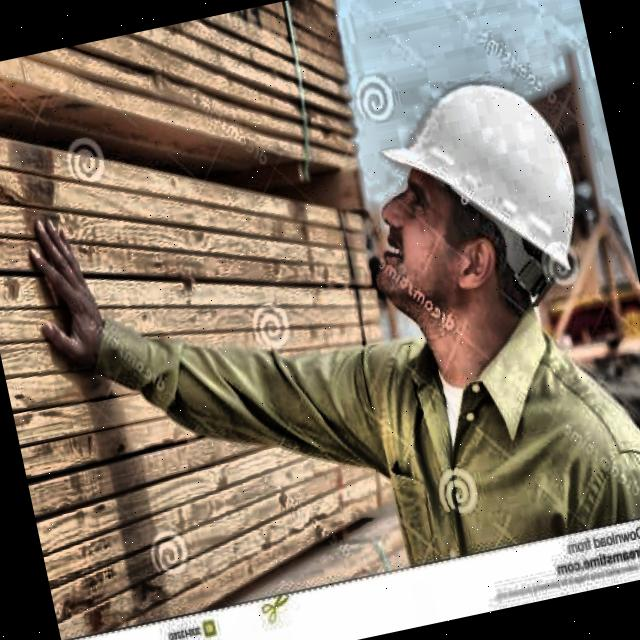helmet: (330, 26, 622, 387)
